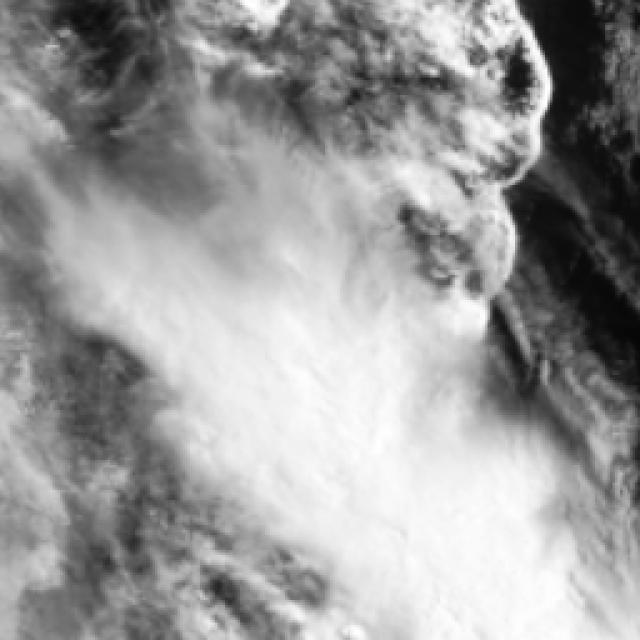CB: (272, 330, 415, 511), (398, 456, 506, 618)
